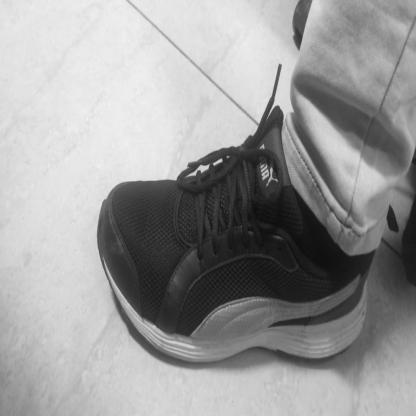ankle: (311, 248, 315, 257)
heel: (362, 303, 366, 312)
left_foot: (96, 115, 367, 367)
pinky: (137, 294, 142, 305)
toe: (119, 188, 125, 197)
